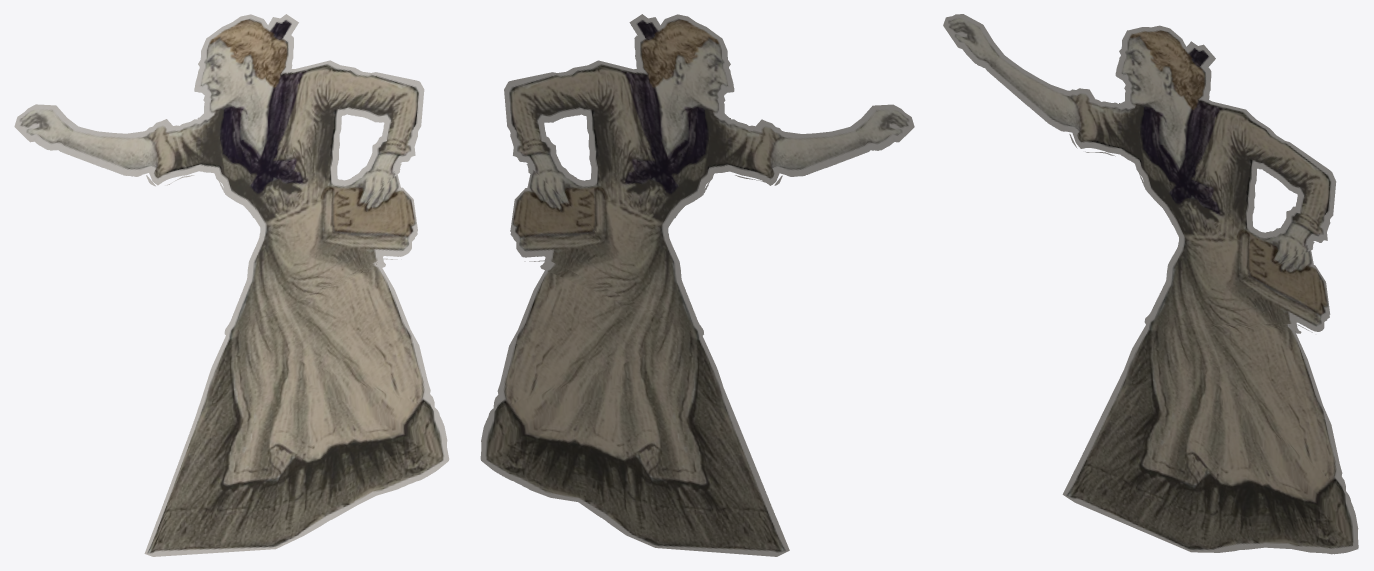
The model's file is charTest 1.fbx.
3 renders of one model, left to right at view 1: azimuth 30°, elevation 25°; view 2: azimuth 150°, elevation 25°; view 3: azimuth 330°, elevation 25°, orthographic. The views are drawn at different scales.
Visible parts, largest first — view 1: Plane; view 2: Plane; view 3: Plane.
Boxes of the visible parts, left/top/right/bottom form: Plane: left=14, top=14, right=449, bottom=556; Plane: left=480, top=14, right=914, bottom=556; Plane: left=943, top=14, right=1358, bottom=554.
Size of the model in its own units: 381 by 451 by 6.39.
Materials: 1 (1 with a texture image).
